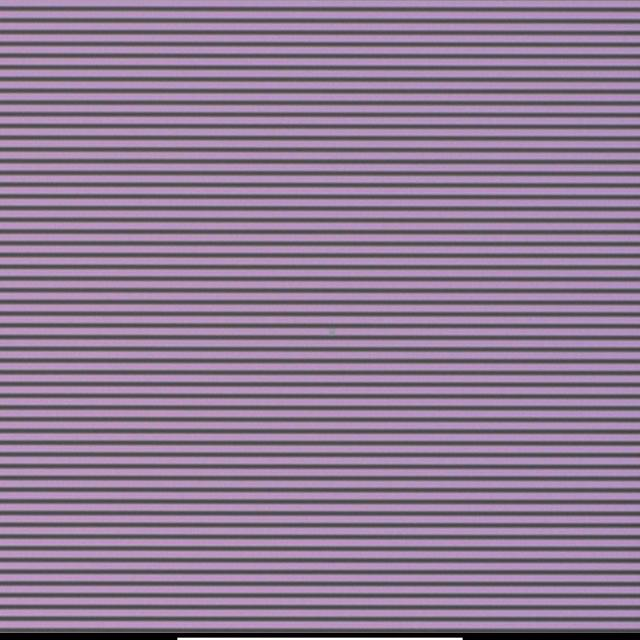nonvisual: (326, 328, 338, 338)
